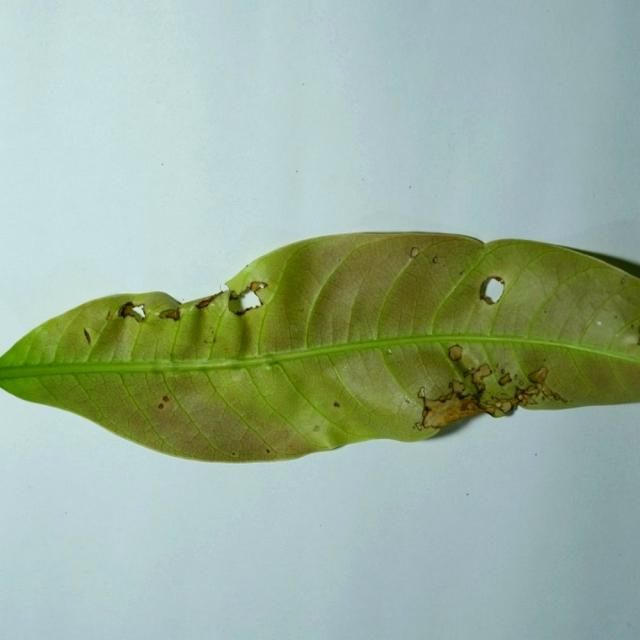Anthracnose: (465, 265, 625, 332), (415, 359, 564, 429), (116, 279, 268, 326), (225, 279, 269, 316), (527, 366, 567, 401), (447, 343, 482, 383), (479, 275, 508, 314), (479, 276, 506, 305), (618, 317, 640, 343), (117, 301, 144, 321), (591, 313, 618, 333), (195, 291, 224, 309), (232, 302, 261, 317), (528, 366, 547, 384), (83, 326, 100, 346), (447, 343, 464, 362), (157, 395, 172, 410), (162, 309, 180, 321), (498, 372, 512, 386), (484, 292, 497, 304), (196, 299, 211, 309), (229, 290, 240, 301), (409, 247, 420, 257), (220, 283, 230, 292), (255, 282, 266, 290), (496, 277, 505, 285), (432, 256, 439, 264), (162, 395, 170, 402), (313, 425, 320, 432), (333, 401, 340, 407), (620, 277, 626, 284), (158, 403, 164, 409), (385, 351, 391, 357), (597, 320, 602, 326), (265, 449, 270, 454), (232, 452, 236, 456)
Mango: (0, 232, 639, 467)
